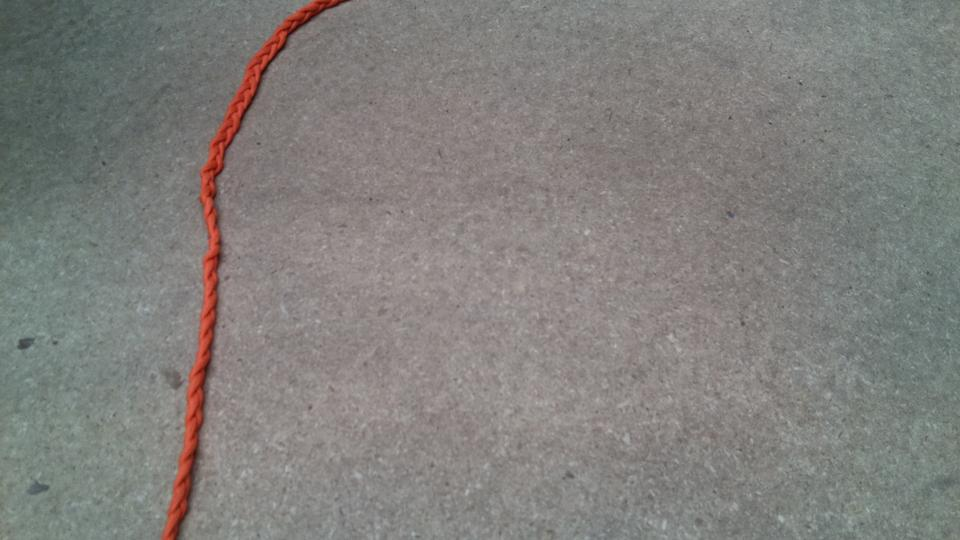rope: (159, 1, 336, 537)
